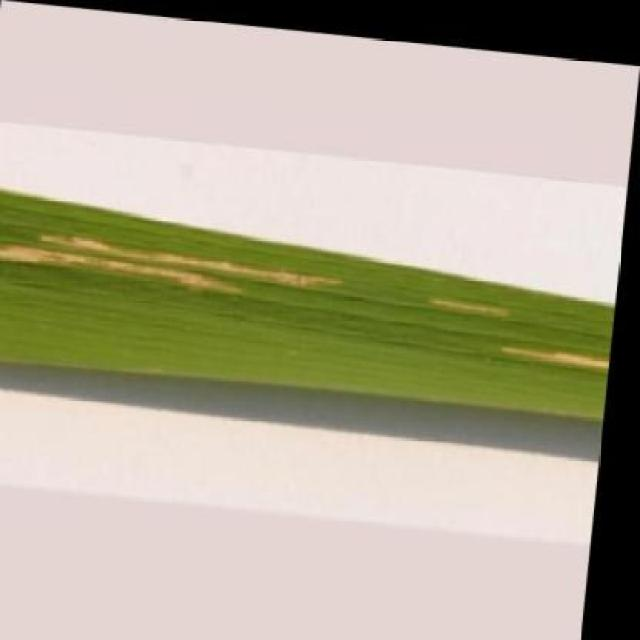Brown_Spot: (0, 182, 625, 418)
